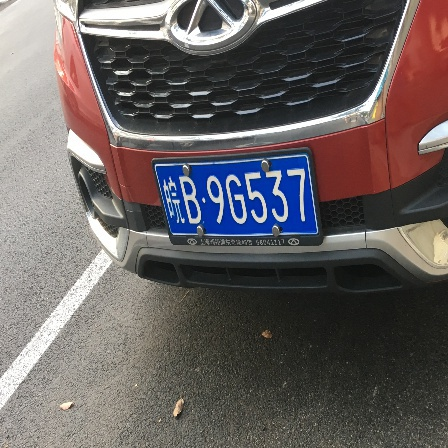plate: (146, 149, 329, 245)
